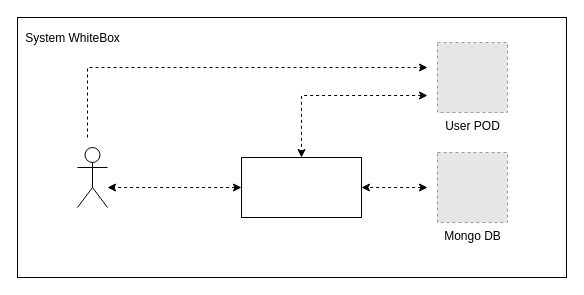
Some shapes in this 584 by 295 pixel diagram are drawn without their labels. Grey dashed boxes stand in for pictures. The shapes that lost their labels are listed below. From the top down, each one's centre as x and y in pixels, then its label:
[92,177]: Usuario
[301,187]: Radarin
